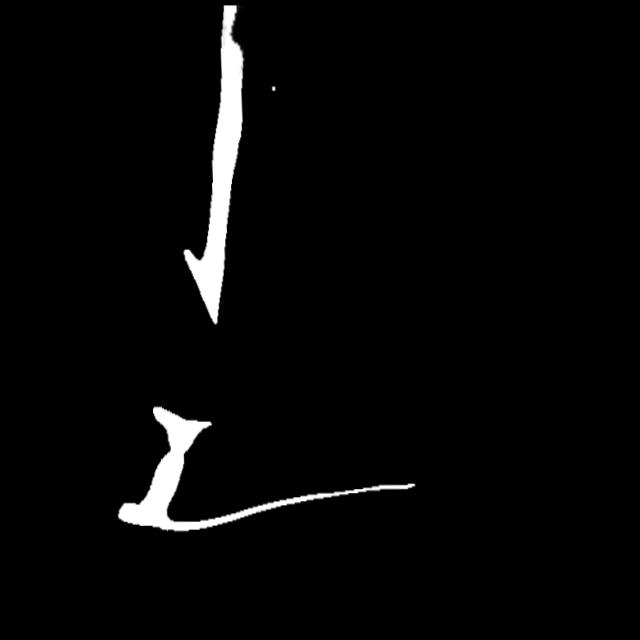sl: (212, 3, 252, 69)
